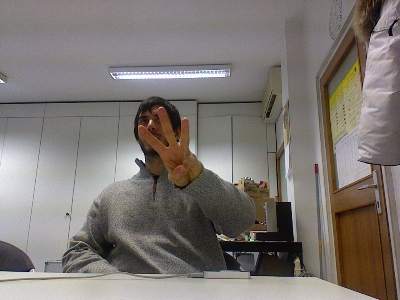三分: (136, 105, 202, 187)
